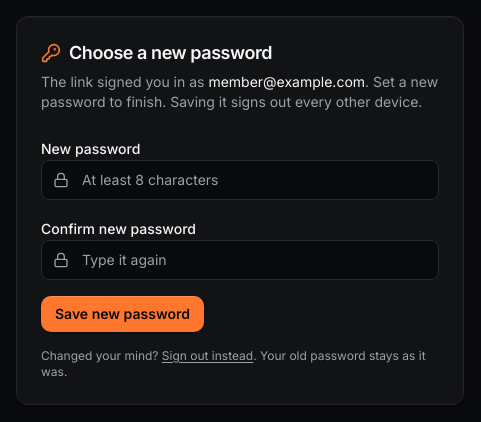
Test: ResetPasswordPage › says so when the other sessions could not be revoked
Type "correct-horse-battery" into the password field labelled "New password".
click(240, 180); type("correct-horse-battery")  # box [41,160,439,200]
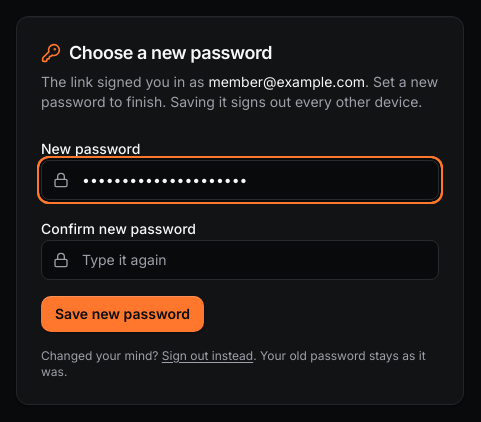
Type "correct-horse-battery" into the password field labelled "Confirm new password".
click(240, 260); type("correct-horse-battery")  # box [41,240,439,280]
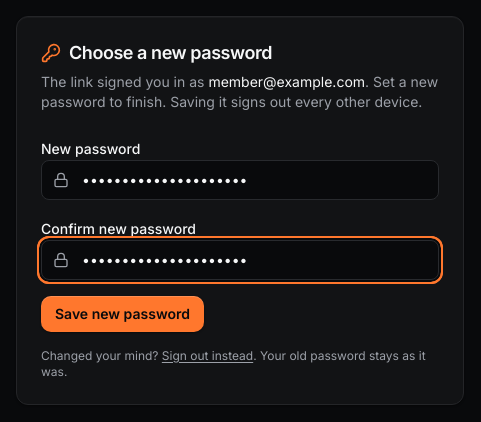
Click the button "Save new password".
click(122, 314)  # box [41,296,204,332]
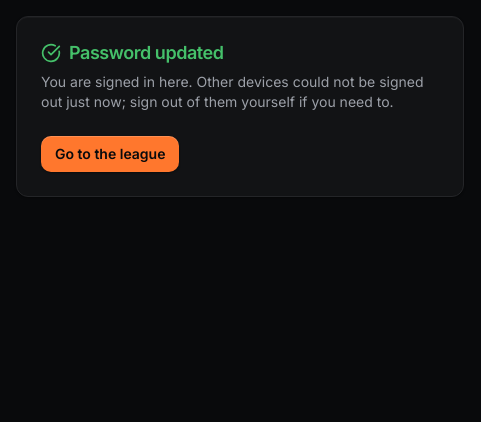
Result: the text "could not be signed out" is shown at [41,73,424,110]
